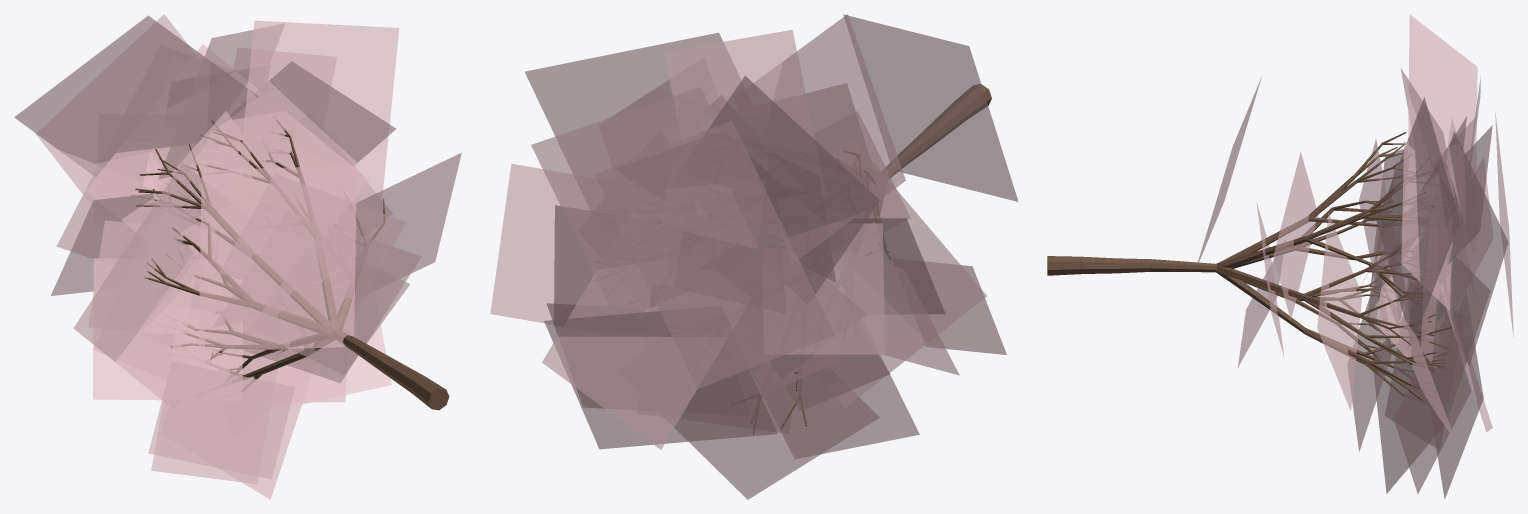
File: peach_tree_lod_2.glb
3 views of the same model, side by side, from view 1: azimuth 30°, elevation 25°; view 2: azimuth 150°, elevation 25°; view 3: azimuth 270°, elevation 25° (orthographic). The views are drawn at different scales.
Parts seen in each view (by area): view 1: PeachBlossoms, PeachBark; view 2: PeachBlossoms, PeachBark; view 3: PeachBlossoms, PeachBark.
Part boxes in pixels (<box>): PeachBlossoms: <box>14,14,461,499</box>; PeachBark: <box>131,120,449,410</box>; PeachBlossoms: <box>490,14,1018,499</box>; PeachBark: <box>731,84,991,434</box>; PeachBlossoms: <box>1197,14,1513,498</box>; PeachBark: <box>1047,132,1451,402</box>.
Size of the model in its own units: 8.76 by 9.95 by 9.68.
